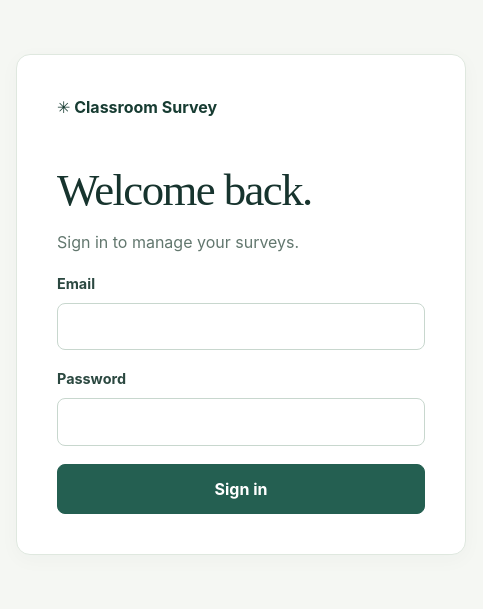
instructor authentication › shows a generic error for invalid credentials and allows retry
The width and height of the screenshot is (483, 609).
Type "test@example.com" into the field labelled "Email" at (241,326), box [57,303,425,350]
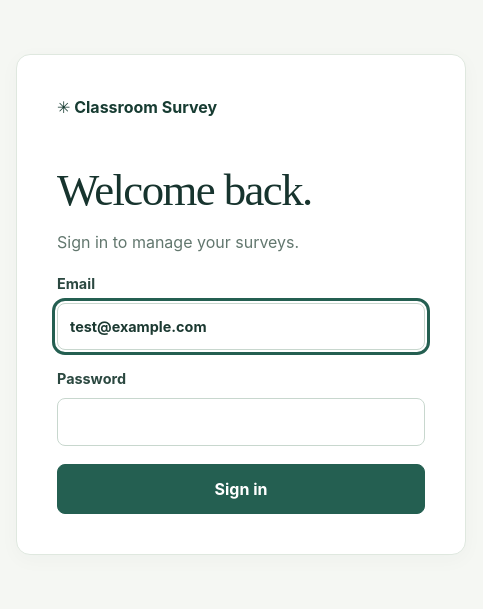
Type "test-password" into the password field labelled "Password" at (241,422), box [57,398,425,446]
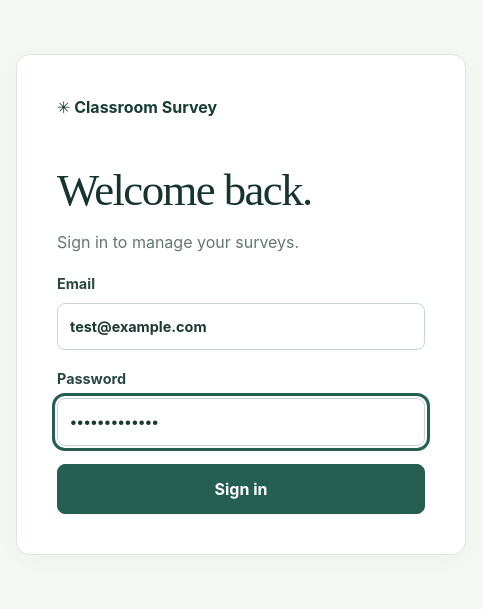
Click the button "Sign in" at (241,488), box [57,464,425,514]
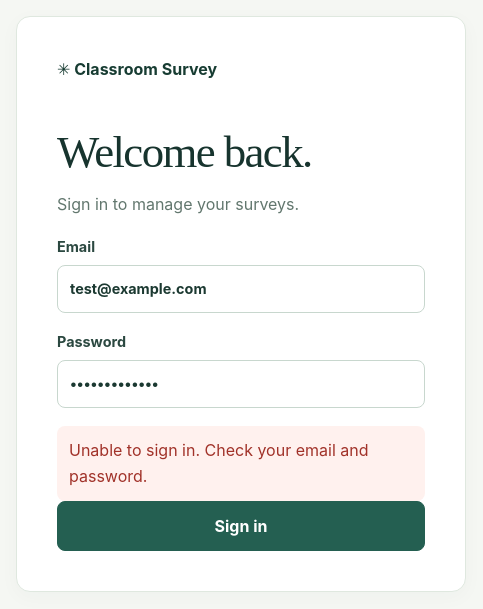
Expected: the button "Sign in" is enabled, [57,501,425,551]
Now the message shows "Unable to sign in", box [69,440,368,486]
